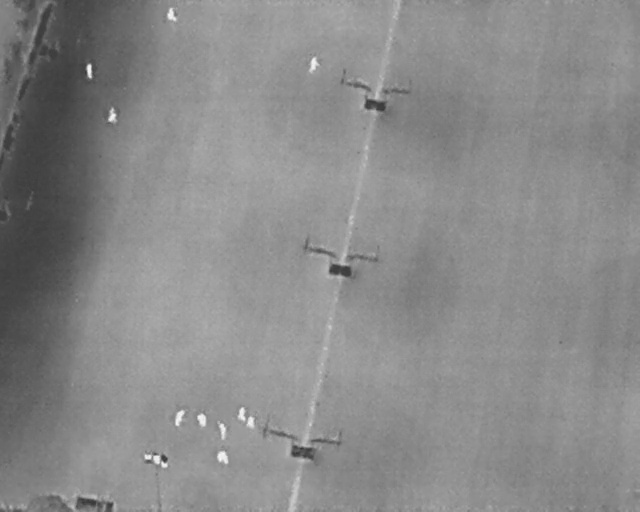Person: (307, 55, 321, 74), (217, 421, 227, 440), (174, 410, 185, 427), (108, 107, 118, 124), (217, 450, 229, 464), (166, 7, 177, 22), (197, 413, 207, 427), (238, 406, 246, 422), (86, 63, 93, 79), (247, 416, 255, 428)
